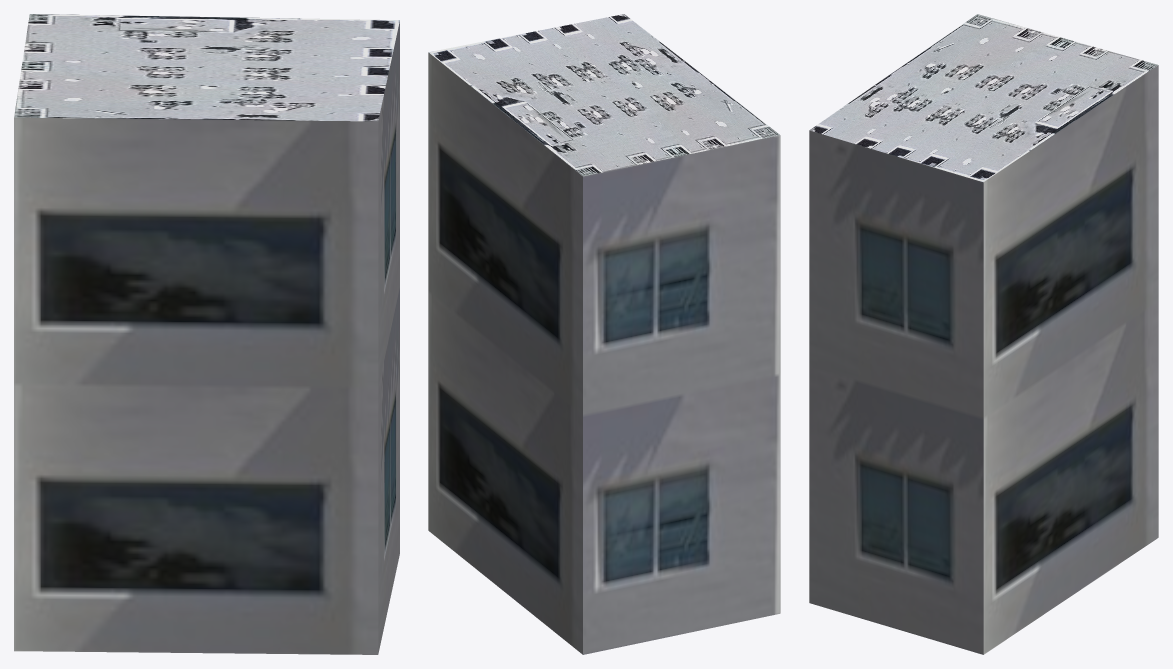
File: ResTex__2050.fbx
3 renders of one model, left to right at view 1: azimuth 30°, elevation 25°; view 2: azimuth 150°, elevation 25°; view 3: azimuth 270°, elevation 25°, orthographic. The views are drawn at different scales.
Parts seen in each view (by area): view 1: CityEngineMaterial_10_m, CityEngineMaterial_8_m; view 2: CityEngineMaterial_10_m, CityEngineMaterial_8_m; view 3: CityEngineMaterial_10_m, CityEngineMaterial_8_m.
Part boxes in pixels (box(x1,y1,x2,y2)): CityEngineMaterial_10_m: box(14, 21, 399, 654); CityEngineMaterial_8_m: box(14, 14, 399, 121); CityEngineMaterial_10_m: box(428, 52, 780, 654); CityEngineMaterial_8_m: box(429, 14, 779, 176); CityEngineMaterial_10_m: box(809, 65, 1158, 654); CityEngineMaterial_8_m: box(809, 14, 1157, 182).
Size of the model in its own units: 4.58 by 6 by 4.02.
Materials: 2 (2 with a texture image).
